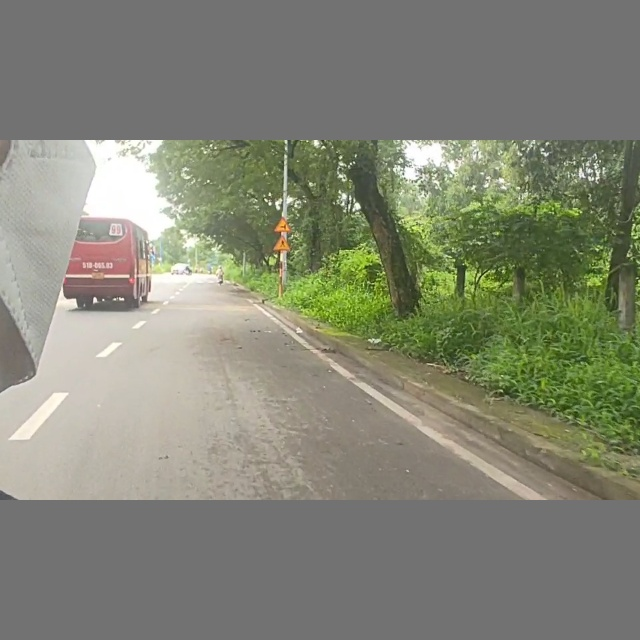W.205c: (273, 217, 293, 235)
W.224: (275, 235, 292, 252)
